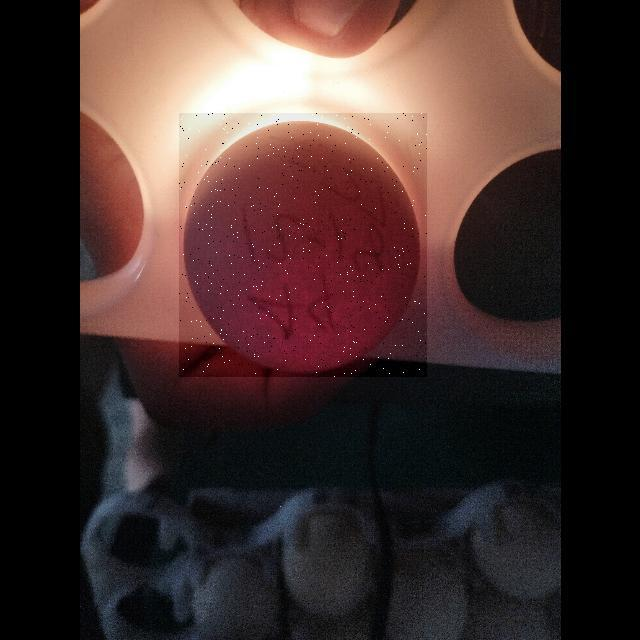Infertile: (179, 113, 427, 377)
